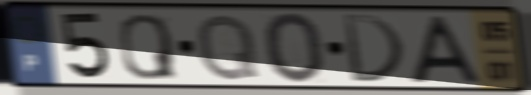5: (58, 11, 111, 82)
A: (407, 13, 485, 86)
D: (339, 12, 408, 86)
O: (261, 10, 329, 86)
Q: (195, 11, 262, 84), (117, 11, 180, 82)
